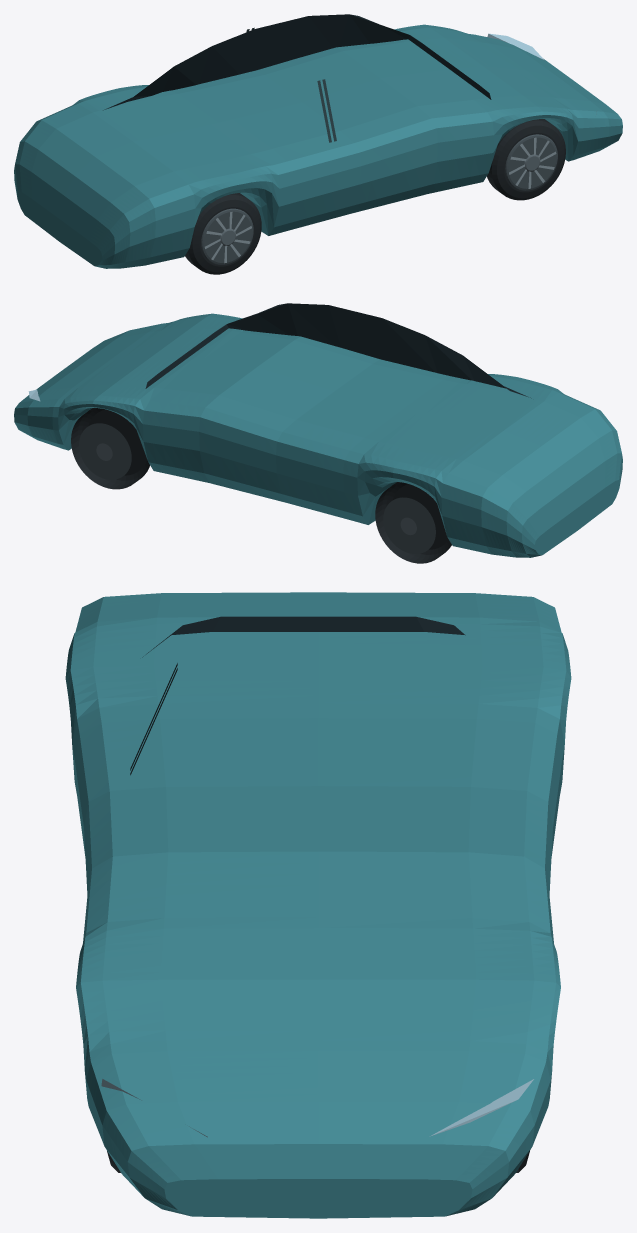
The model's file is solid_sedan.glb.
The picture shows the model from 3 angles, top to bottom: view 1: azimuth 30°, elevation 25°; view 2: azimuth 150°, elevation 25°; view 3: azimuth 270°, elevation 25°; orthographic projection. The views are drawn at different scales.
Parts seen in each view (by area): view 1: Painted body, Panoramic glazing, Tyre (×2), Alloy wheel (×2); view 2: Painted body, Panoramic glazing, Tyre (×2), Alloy wheel (×2); view 3: Painted body, Panoramic glazing.
Part boxes in pixels (x1,y1,x2,y2): Painted body: [14, 24, 622, 268]; Panoramic glazing: [103, 14, 491, 110]; Tyre (×2): [185, 119, 565, 274]; Alloy wheel (×2): [201, 134, 557, 264]; Painted body: [14, 313, 622, 557]; Panoramic glazing: [145, 303, 531, 398]; Tyre (×2): [71, 408, 451, 563]; Alloy wheel (×2): [79, 423, 435, 553]; Painted body: [65, 592, 571, 1218]; Panoramic glazing: [142, 616, 465, 657].
Bounding box in the file's own units: 5.24 × 1.56 × 2.2.
